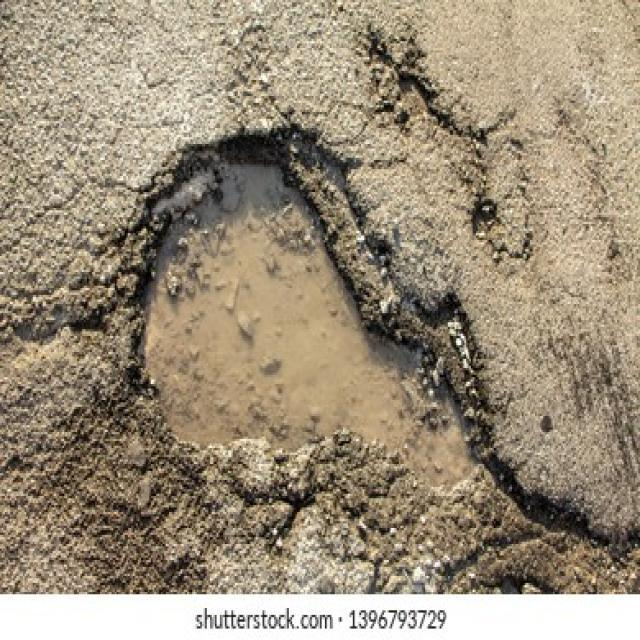Pothole: (124, 123, 480, 494)
